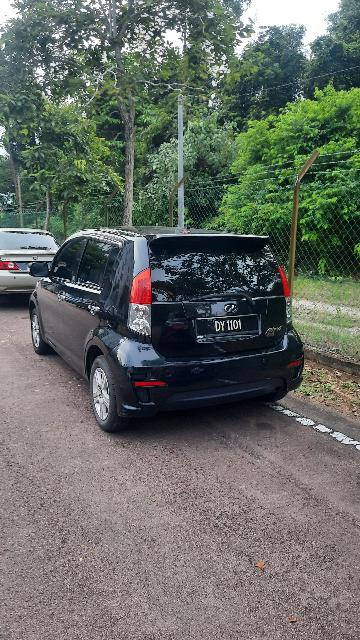License_Plate: (193, 314, 266, 343)
car: (23, 227, 311, 434), (1, 217, 73, 307)
